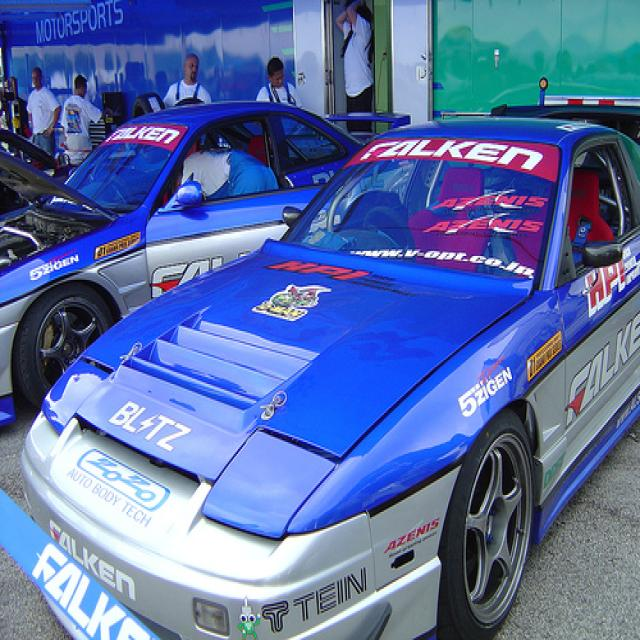light_vehicle: (21, 116, 638, 638), (0, 99, 410, 425)
